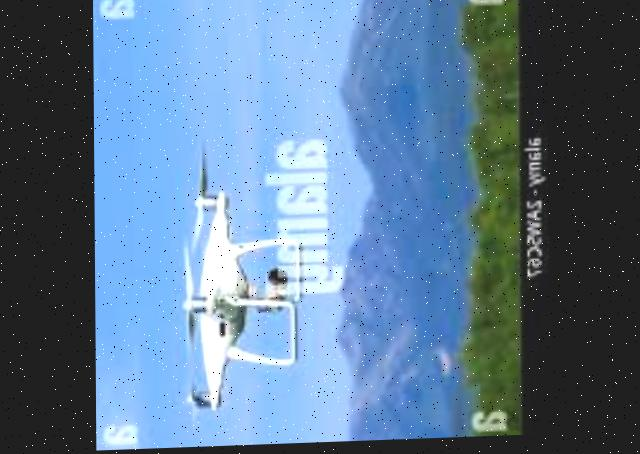drone: (164, 148, 322, 428)
